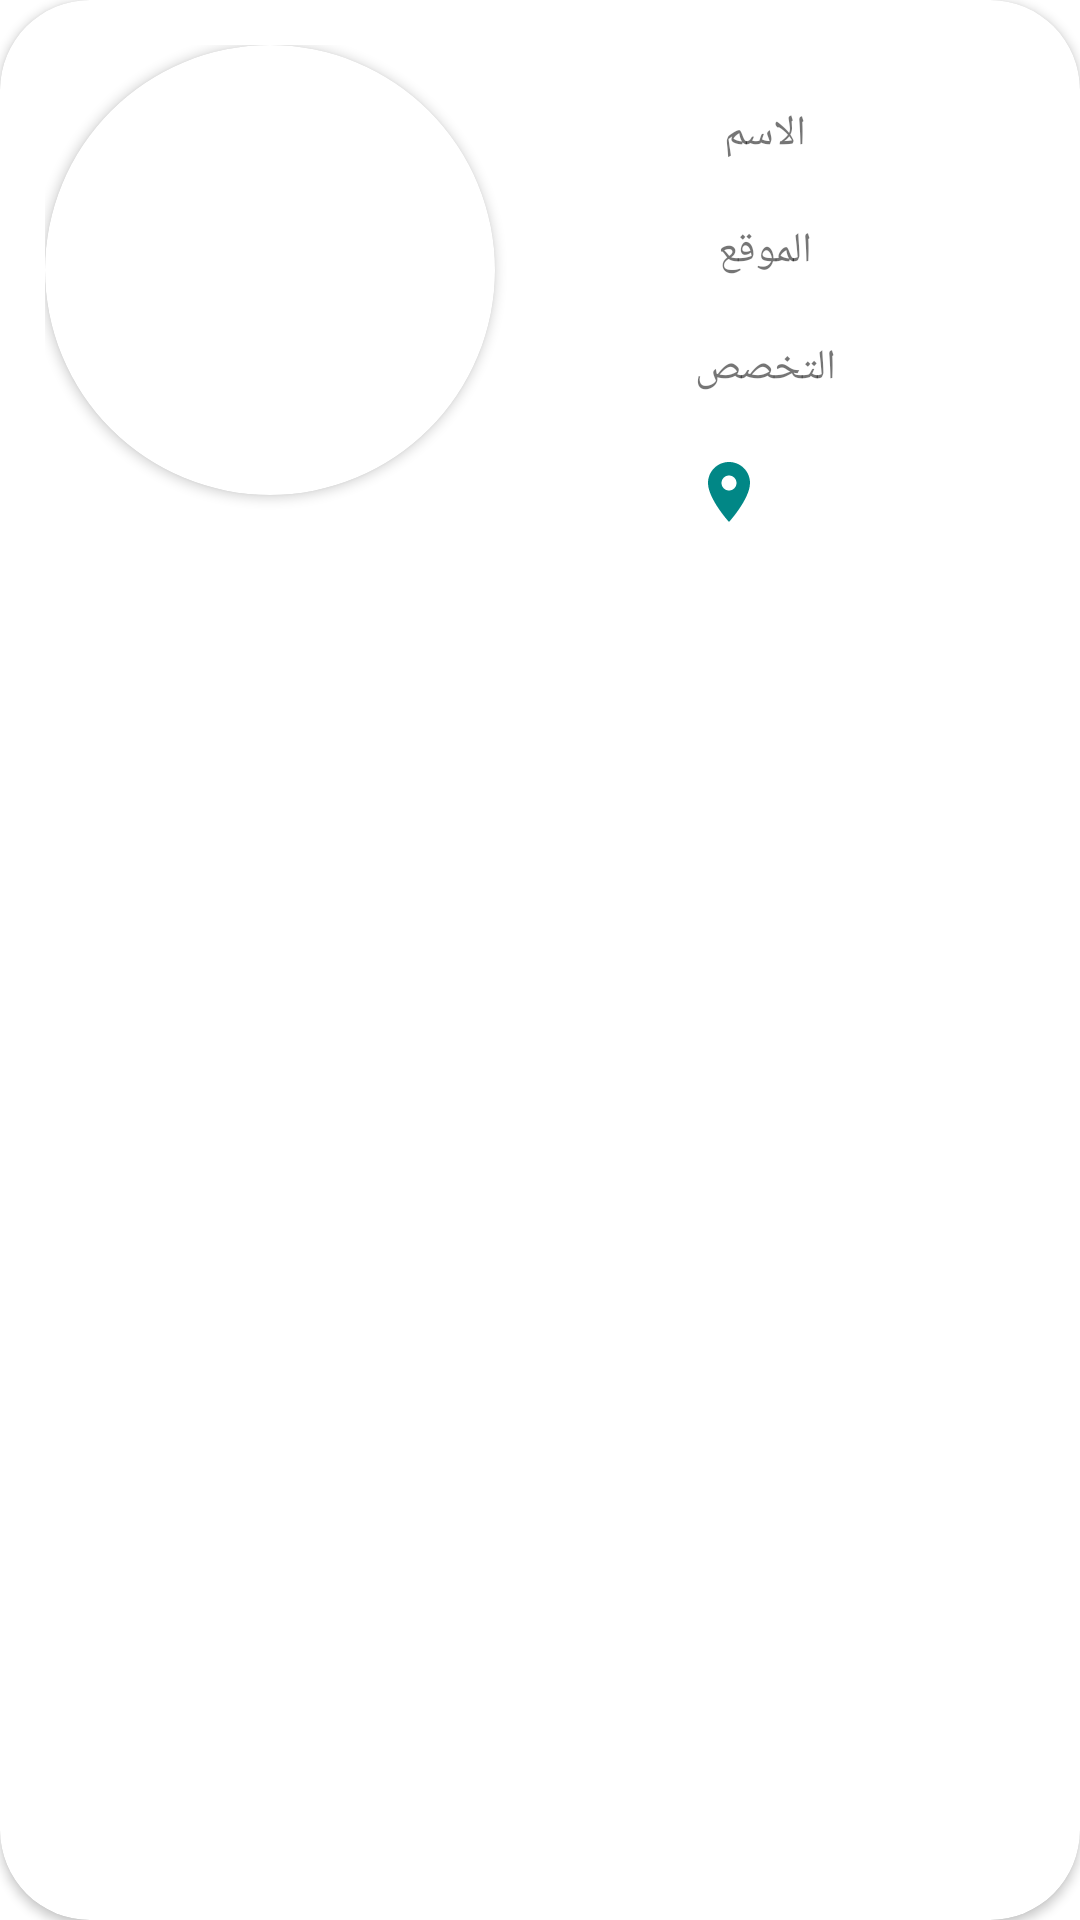

Locate icon controls on the screen. Image size 1080 x 1920, boxes as (x1, y1, x2, y2).
location: (708, 462, 750, 522)
